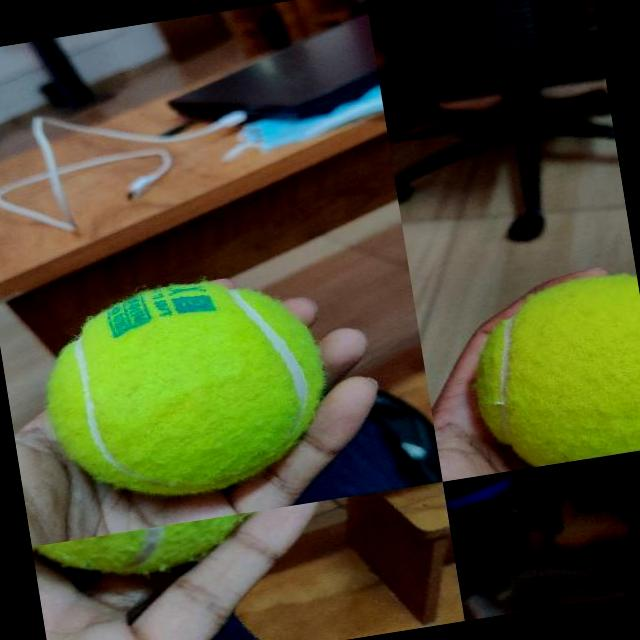tennis-ball: (34, 266, 338, 513), (462, 270, 640, 473)
